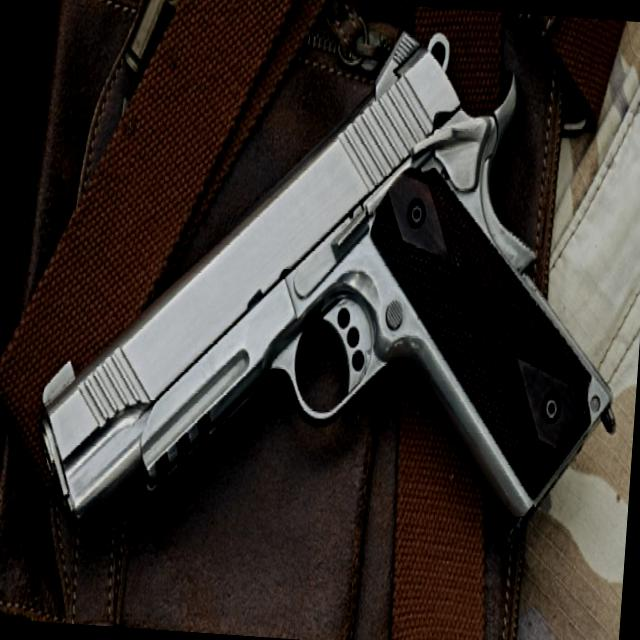handgun: (13, 0, 639, 562)
